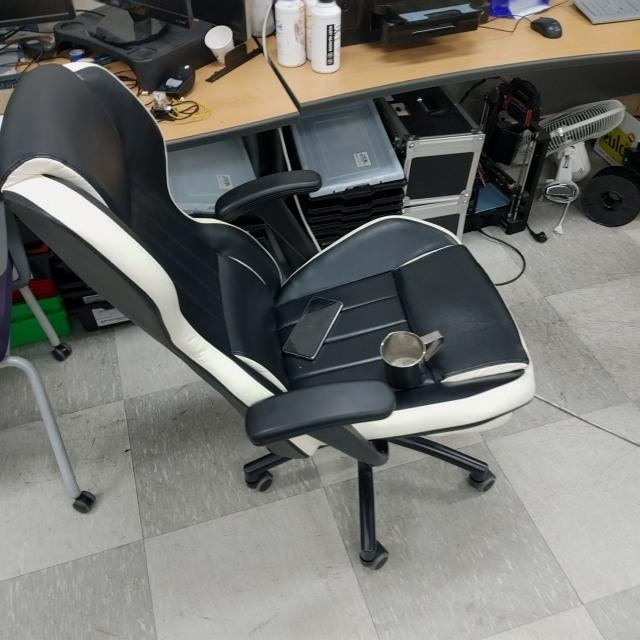cup: (378, 327, 444, 390)
phone: (281, 294, 343, 361)
